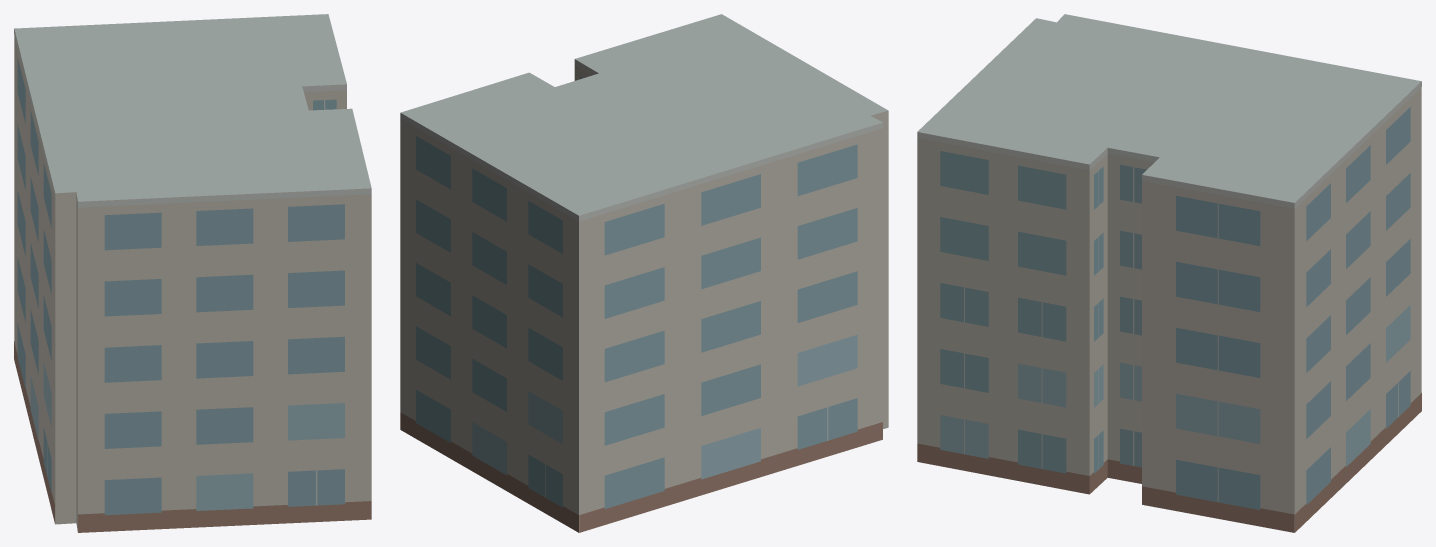
Rendered from survey-upis-32669522.glb.
The picture shows the model from 3 angles, left to right: view 1: azimuth 30°, elevation 25°; view 2: azimuth 150°, elevation 25°; view 3: azimuth 270°, elevation 25°; orthographic projection. The views are drawn at different scales.
Visible parts, largest first — view 1: survey-upis-32669522.tmp; view 2: survey-upis-32669522.tmp; view 3: survey-upis-32669522.tmp.
Part boxes in pixels (<box>): survey-upis-32669522.tmp: <box>14,14,371,532</box>; survey-upis-32669522.tmp: <box>400,14,888,532</box>; survey-upis-32669522.tmp: <box>917,14,1421,532</box>.
Size of the model in its own units: 16.84 by 13.7 by 19.
